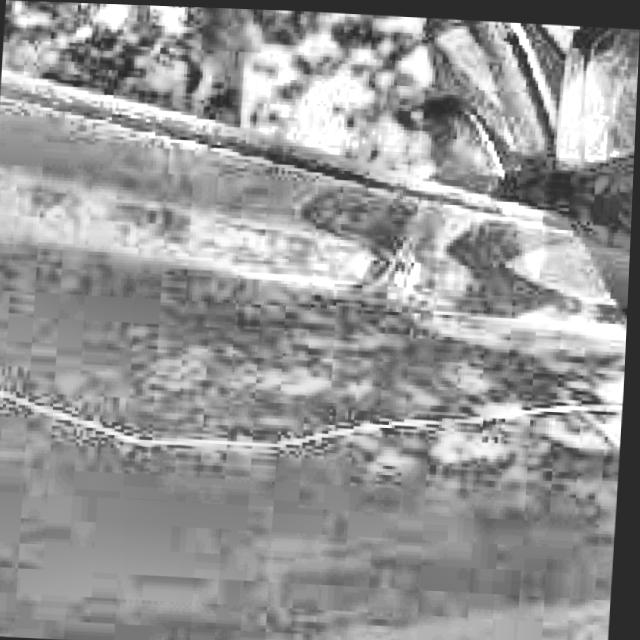door_scratch: (96, 394, 347, 476), (362, 383, 603, 462), (0, 374, 88, 427)
